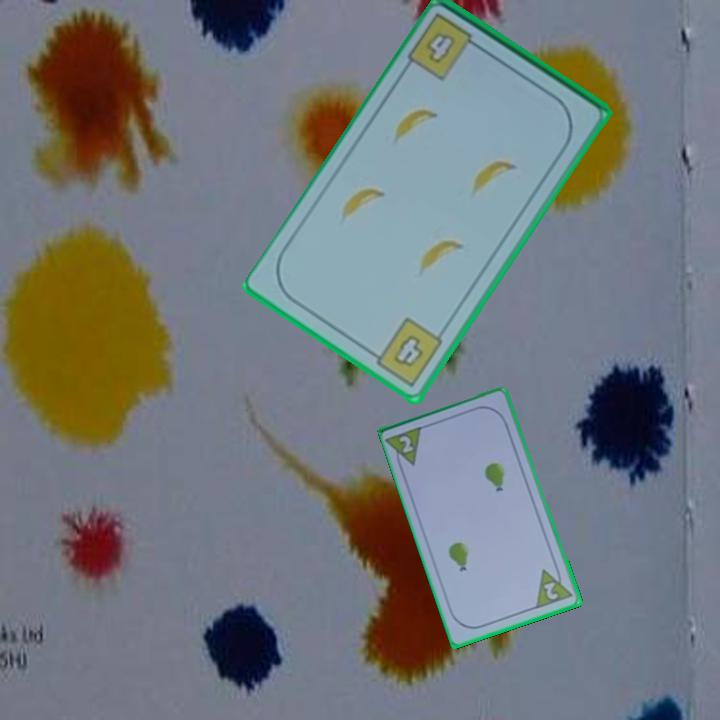2p: (532, 562, 576, 612), (396, 432, 417, 456)
4b: (365, 313, 447, 390), (404, 9, 486, 84)
